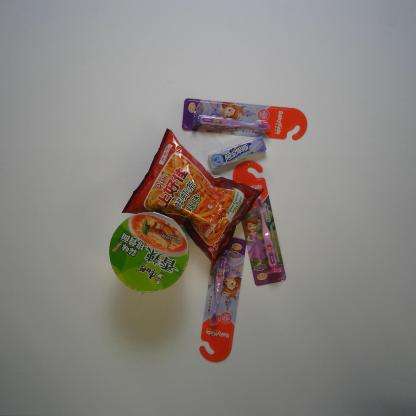Candy: (207, 135, 266, 171)
Instant Noodles: (107, 211, 191, 293)
Personal Hygiene: (231, 160, 286, 286), (199, 236, 246, 363), (180, 96, 307, 141)
Puffed Food: (122, 128, 265, 266)
